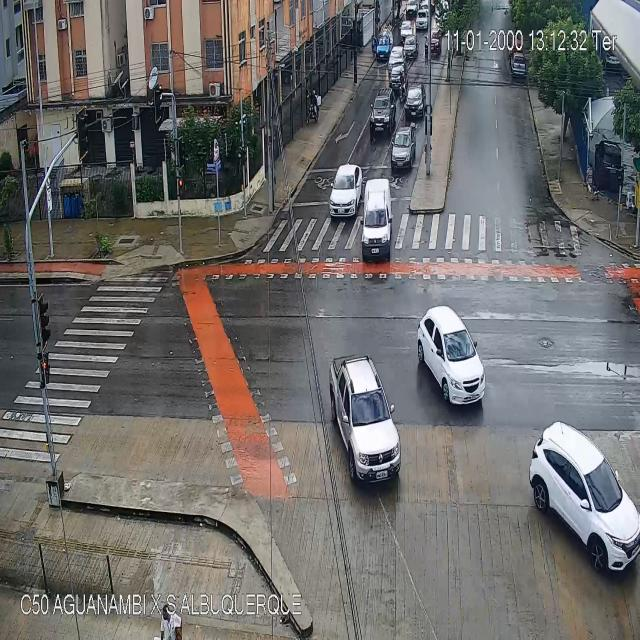Car: (529, 420, 640, 578), (329, 352, 402, 485), (416, 302, 486, 405), (362, 179, 394, 263), (328, 164, 362, 216), (368, 87, 396, 142), (391, 126, 416, 173), (405, 84, 427, 122), (376, 23, 392, 62), (425, 32, 442, 59), (389, 64, 404, 90), (512, 52, 526, 78), (415, 9, 427, 31), (388, 47, 401, 67), (405, 38, 417, 59), (400, 22, 412, 40)
Motorcycle: (305, 89, 320, 124), (397, 70, 408, 102)
